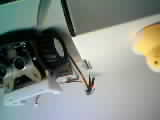duck: (133, 14, 156, 76)
